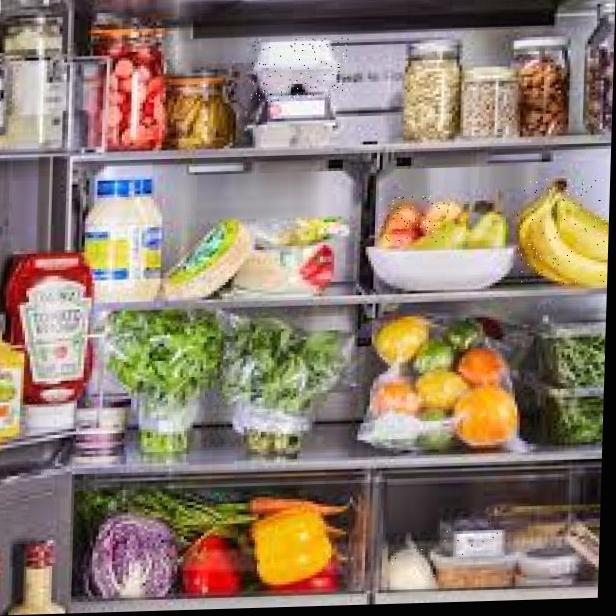apple: (377, 196, 450, 243)
banana: (515, 177, 610, 284)
butter: (442, 513, 511, 560)
cheese: (381, 540, 437, 590)
eggs: (251, 37, 349, 102)
